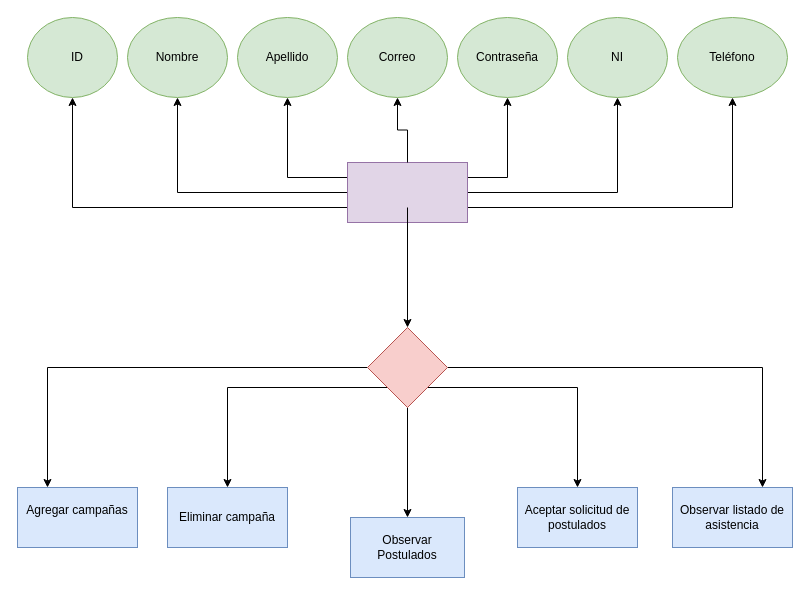
Some shapes in this 810 by 595 pixel diagram are drawn without their labels. Each missing label, with the box of its shape:
HACE: (366, 326, 448, 408)
ORIENTADOR: (346, 162, 468, 222)
